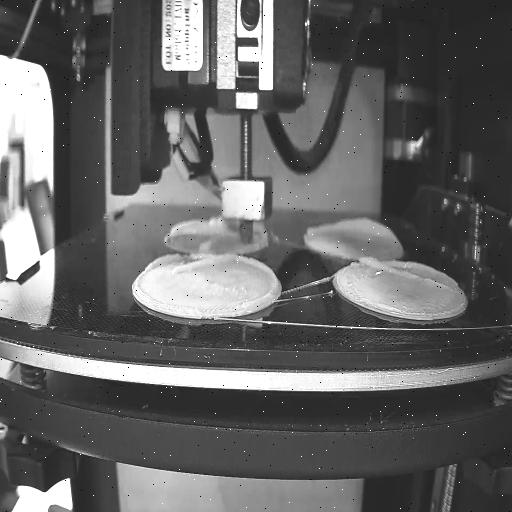over_extrusion: (358, 250, 450, 292), (306, 212, 398, 245), (234, 254, 278, 308), (144, 250, 234, 276), (168, 216, 226, 238)
